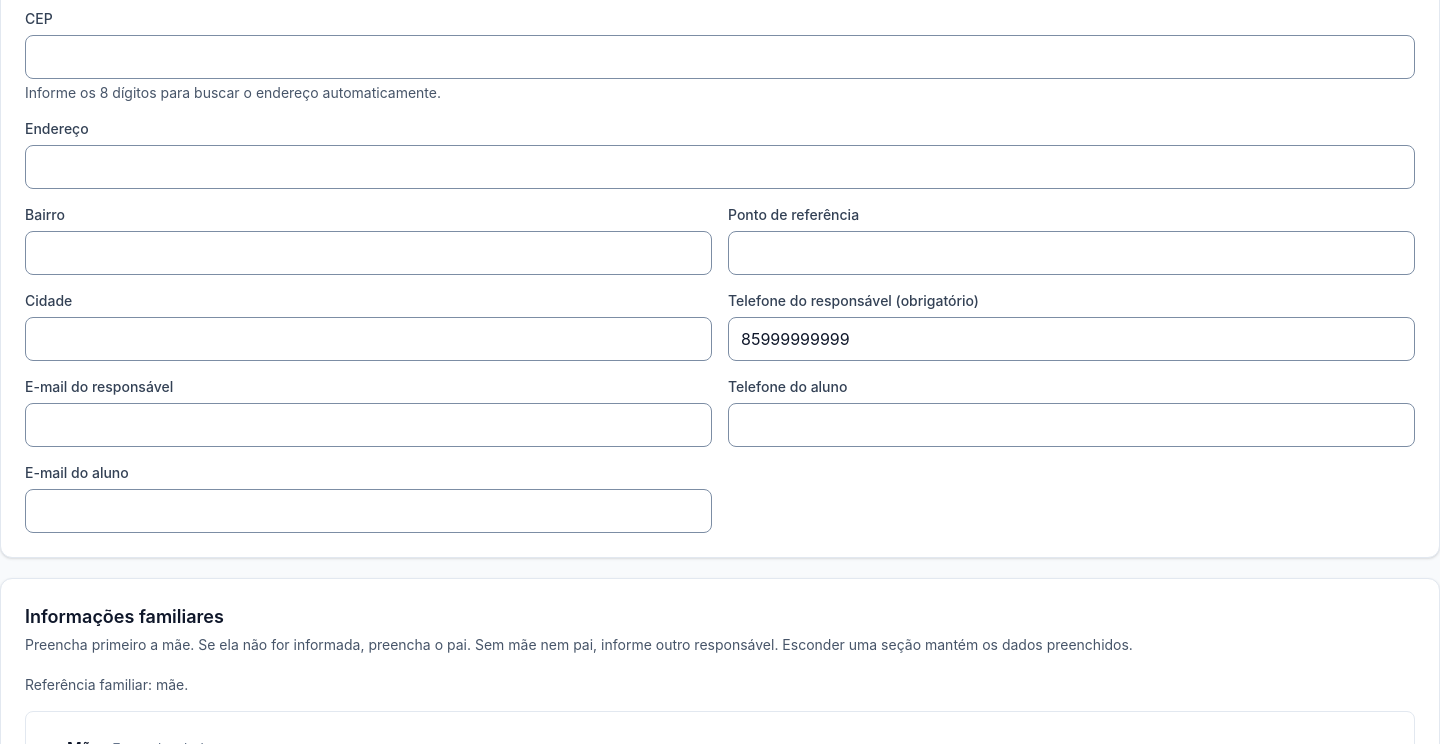
Test: bloqueia sobrescrita se o registro mudou antes de salvar
(page scrolled)
Replace the text in the field labelled "Telefone do responsável (obrigatório)" with "85988888888" at point(1072, 339), box [728,317,1415,361]
(page scrolled)
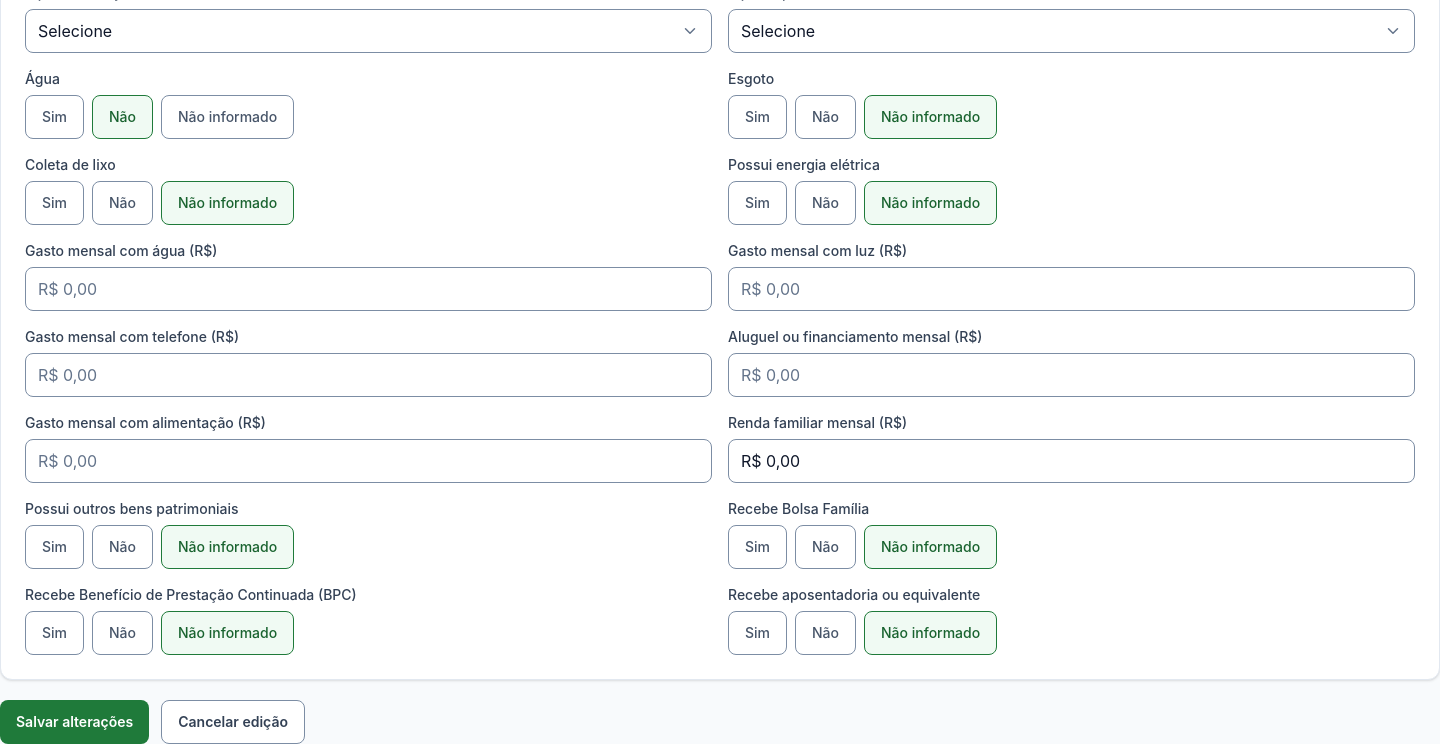
Click the button "Salvar alterações" at point(75, 722), box [0,700,149,743]
(page scrolled)
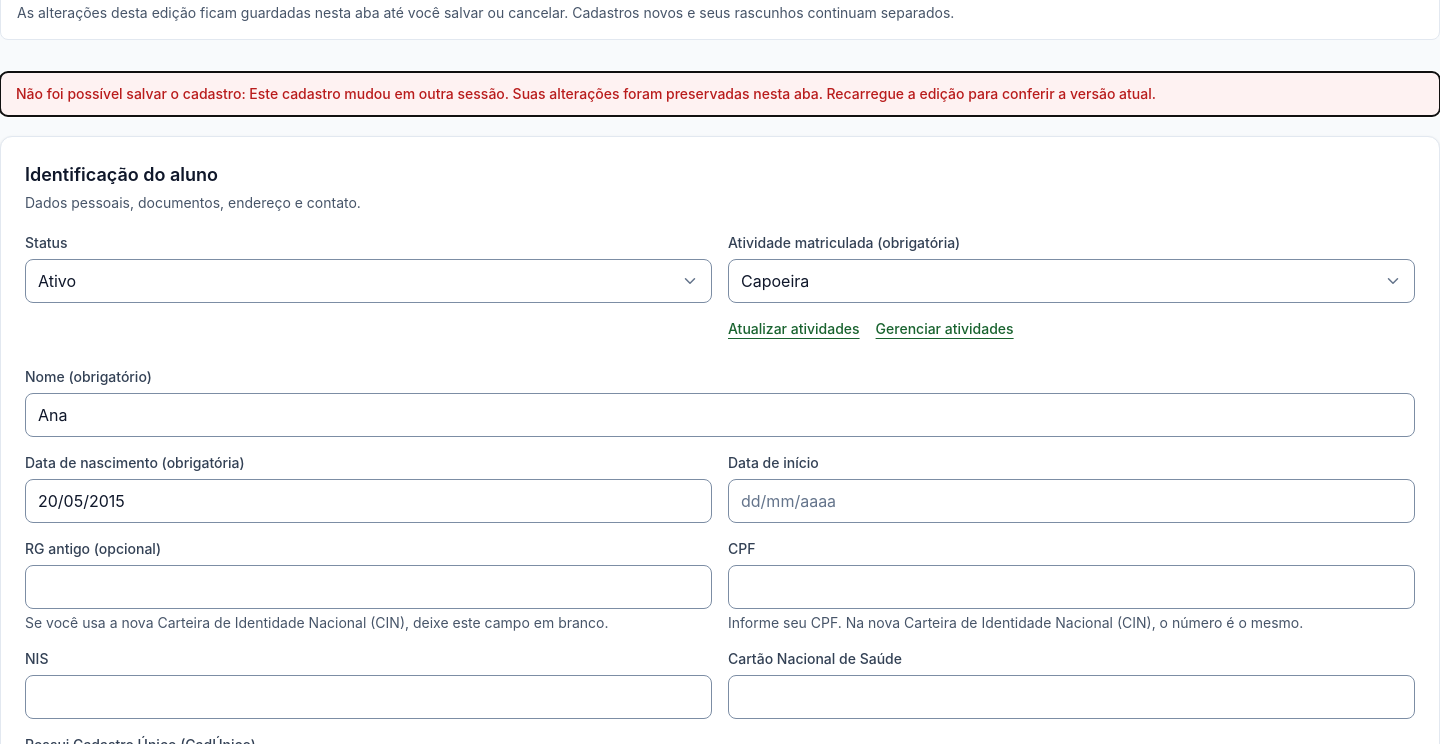
Check: the text "Este cadastro mudou em outra sessão" is shown, box [16,85,1156,102]
